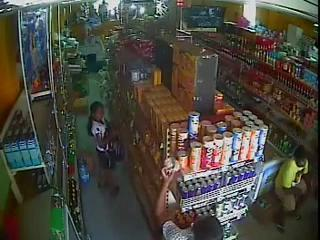Normal: (155, 166, 224, 240)
